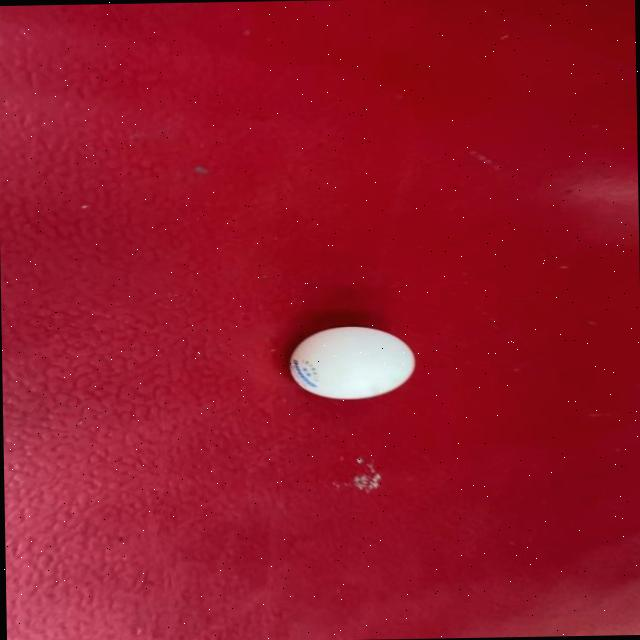ping-pong-ball: (282, 320, 420, 404)
